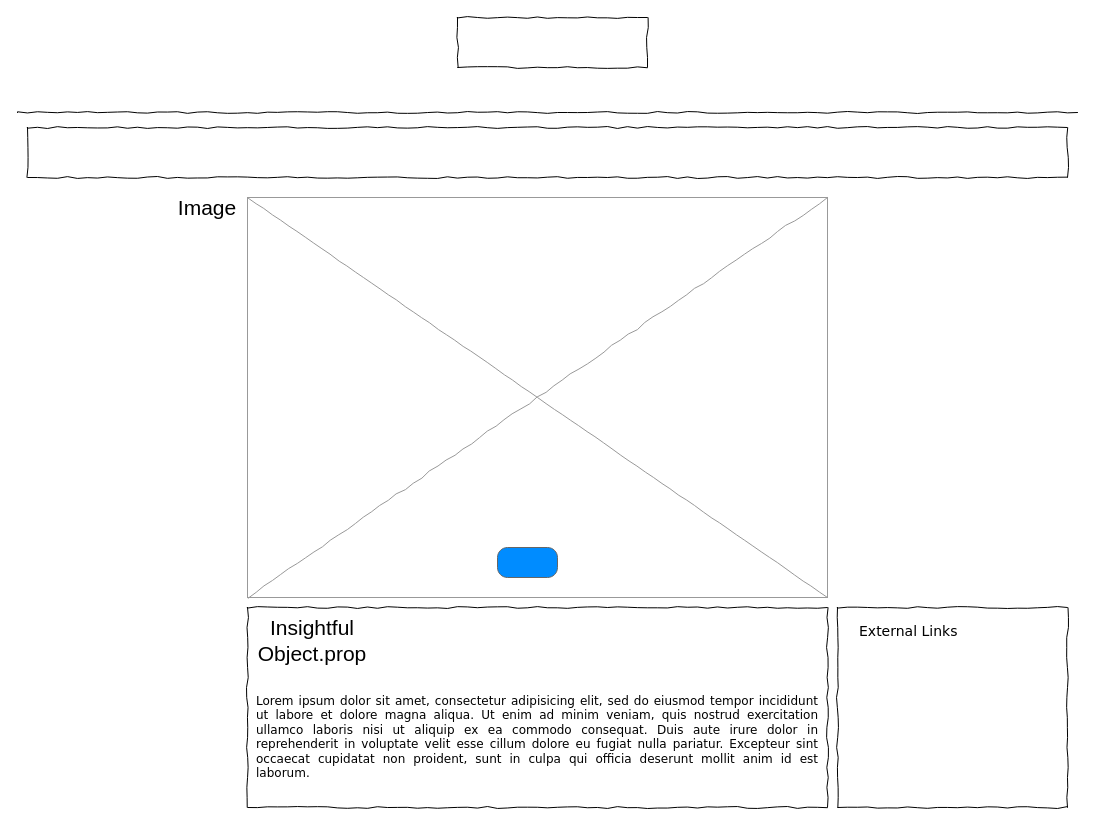
This 1095x825 diagram has some shape labels left out. The box of each missing label's shape, as (x1, y1, x2, y2) in pixels:
Next: (496, 546, 558, 578)
UI: (456, 16, 648, 68)
